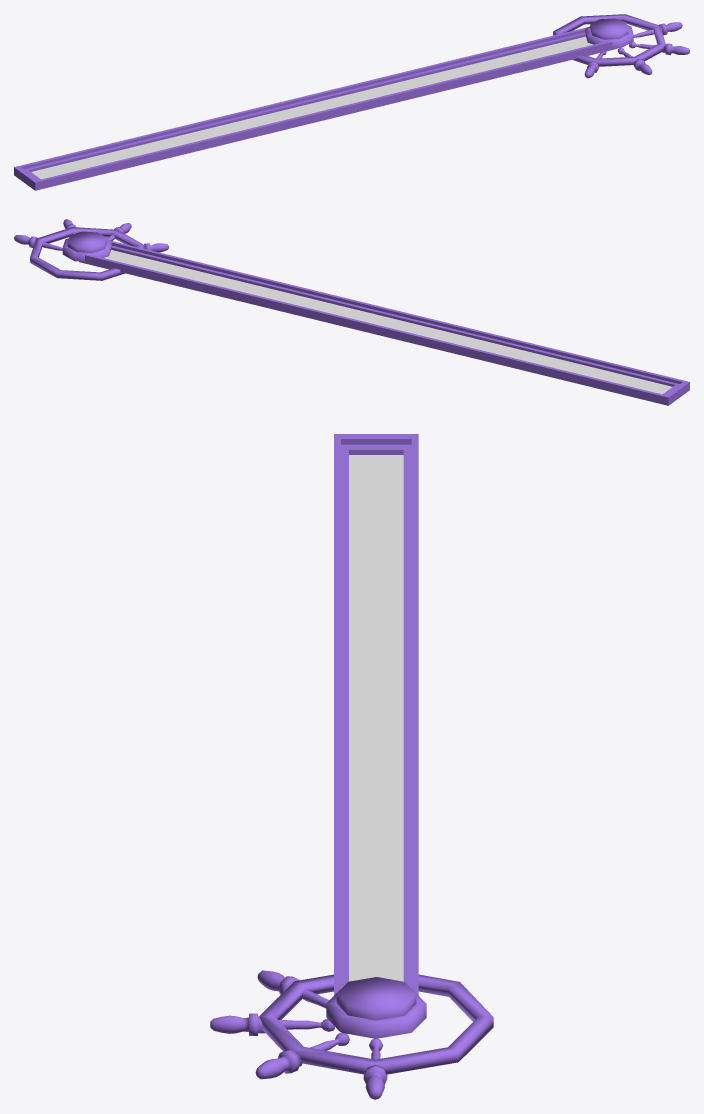
The model's file is XP_Bar.fbx.
The picture shows the model from 3 angles, top to bottom: view 1: azimuth 30°, elevation 25°; view 2: azimuth 150°, elevation 25°; view 3: azimuth 270°, elevation 25°; orthographic projection. The views are drawn at different scales.
Parts seen in each view (by area): view 1: Circle.001; view 2: Circle.001; view 3: Circle.001.
Part boxes in pixels (x1=…): Circle.001: x1=14, y1=14, x2=689, y2=190; Circle.001: x1=14, y1=219, x2=689, y2=405; Circle.001: x1=210, y1=434, x2=493, y2=1099.
Bounding box in the file's own units: 1577 × 294 × 48.56.
